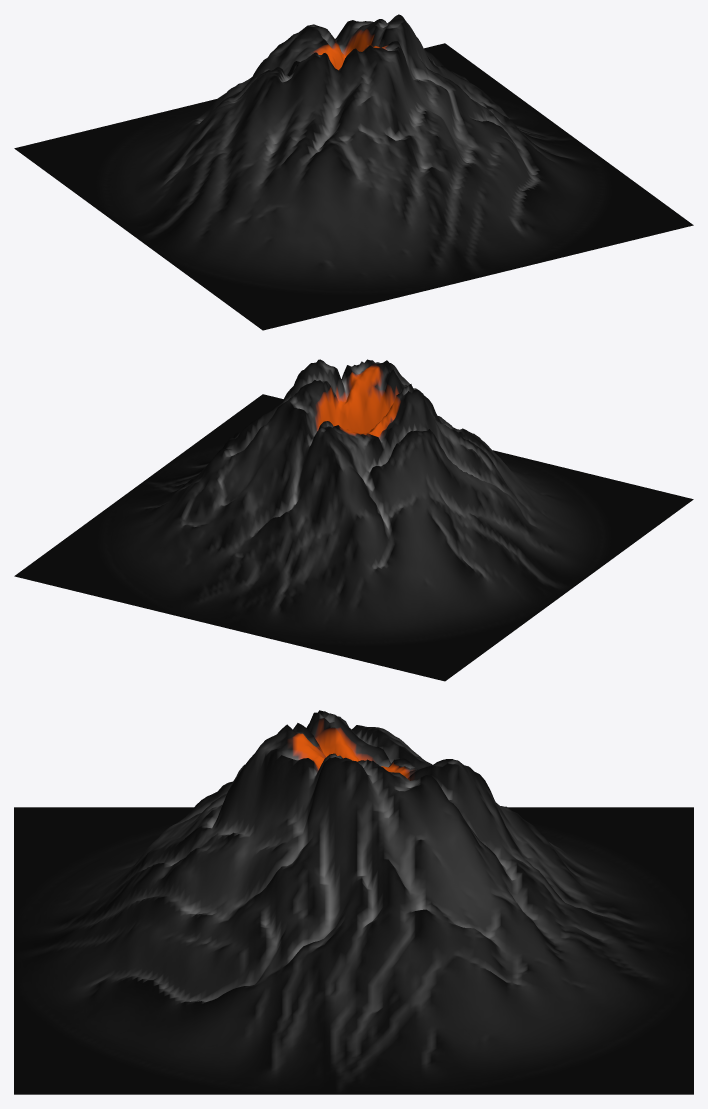
File: Volcano.fbx
The picture shows the model from 3 angles, top to bottom: view 1: azimuth 30°, elevation 25°; view 2: azimuth 150°, elevation 25°; view 3: azimuth 270°, elevation 25°; orthographic projection. The views are drawn at different scales.
Parts seen in each view (by area): view 1: Landscape; view 2: Landscape; view 3: Landscape.
Boxes of the visible parts, x1=… form: Landscape: x1=14, y1=14, x2=693, y2=330; Landscape: x1=14, y1=359, x2=693, y2=681; Landscape: x1=14, y1=710, x2=693, y2=1094.
Size of the model in its own units: 200 by 72.19 by 200.
